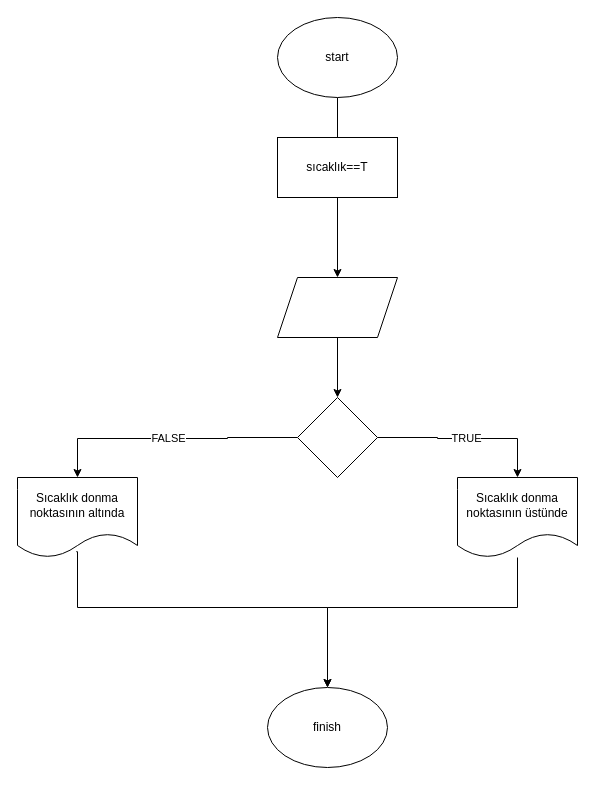
Image size: 595x785. Some labels were removed from this diagram. The shapes that lost their labels are listed below. From the top down, each one's box as (x1, y1, x2, y2) in pixels, then its label:
(276, 276, 398, 338): sıcaklık derecesini giriniz,T
(296, 396, 378, 478): T>0
